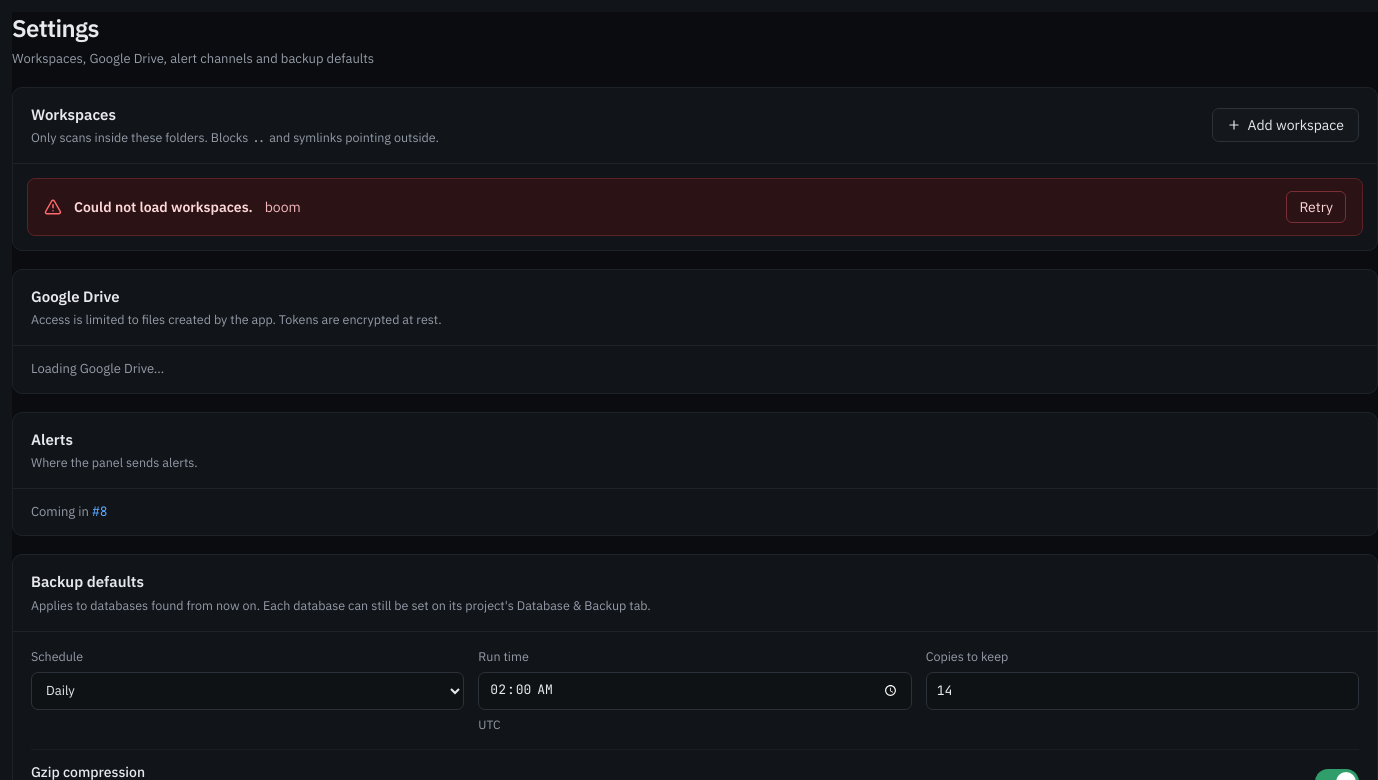
Test case: SettingsPage › shows an error in the card with a retry
Expected: the message "Could not load workspaces. boom Retry" is shown, [27,178,1363,236]
Click the button "Retry".
click(1316, 207)  # box [1286,191,1346,223]
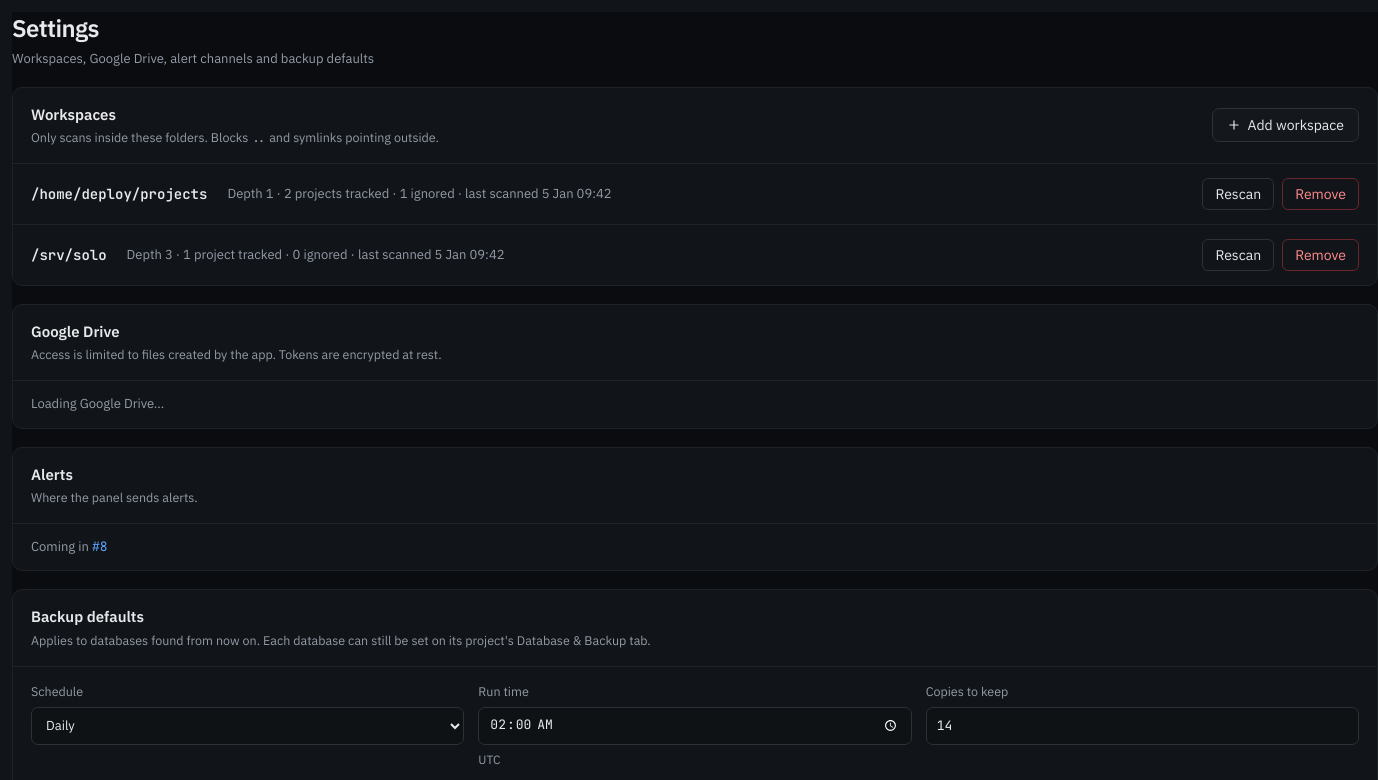
Expected: the text "/srv/solo" is shown, [31,245,107,265]
